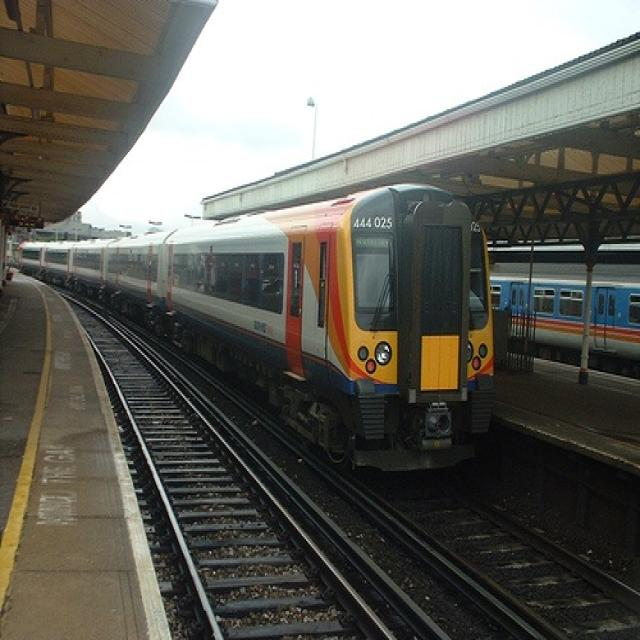train: (19, 183, 494, 481), (489, 260, 639, 378)
